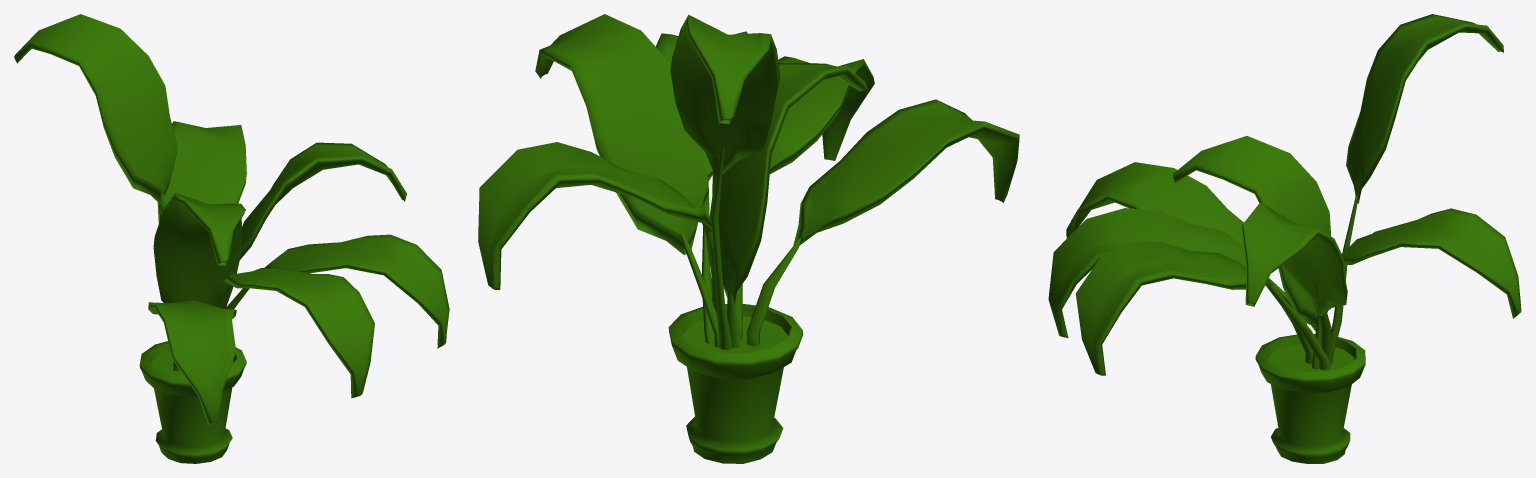
File: plant_low.fbx
3 renders of one model, left to right at view 1: azimuth 30°, elevation 25°; view 2: azimuth 150°, elevation 25°; view 3: azimuth 270°, elevation 25°, orthographic. The views are drawn at different scales.
Parts seen in each view (by area): view 1: Potted_Plant_low; view 2: Potted_Plant_low; view 3: Potted_Plant_low.
Boxes of the visible parts, x1,y1,x2,y2 form: Potted_Plant_low: [14, 14, 449, 463]; Potted_Plant_low: [478, 14, 1019, 463]; Potted_Plant_low: [1048, 14, 1521, 463].
Size of the model in its own units: 1.38 by 1.69 by 1.77.
